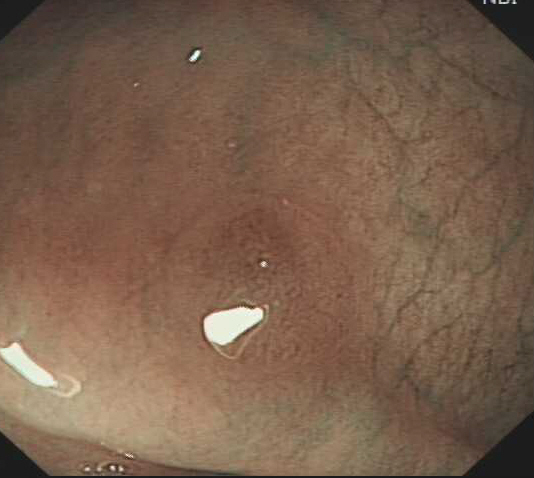others: (155, 191, 357, 378)
